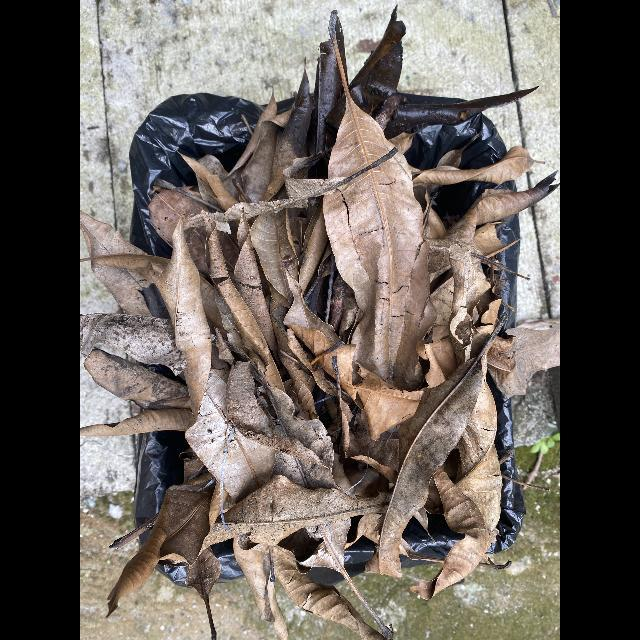biowaste: (323, 11, 437, 391), (379, 314, 504, 580), (283, 270, 427, 439), (106, 457, 228, 618), (201, 468, 390, 551), (444, 192, 553, 329), (177, 88, 297, 210), (208, 208, 286, 392), (410, 446, 502, 601), (186, 370, 276, 502), (157, 219, 212, 427), (272, 546, 389, 640), (80, 210, 173, 327), (80, 313, 187, 376), (83, 350, 191, 410), (413, 146, 546, 192), (233, 531, 289, 640), (496, 318, 560, 400), (250, 208, 299, 309), (456, 381, 498, 479), (177, 151, 239, 211), (80, 405, 193, 437), (80, 254, 170, 283)
